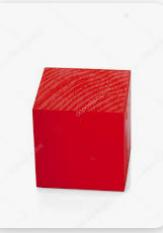red cube: (31, 65, 133, 192)
